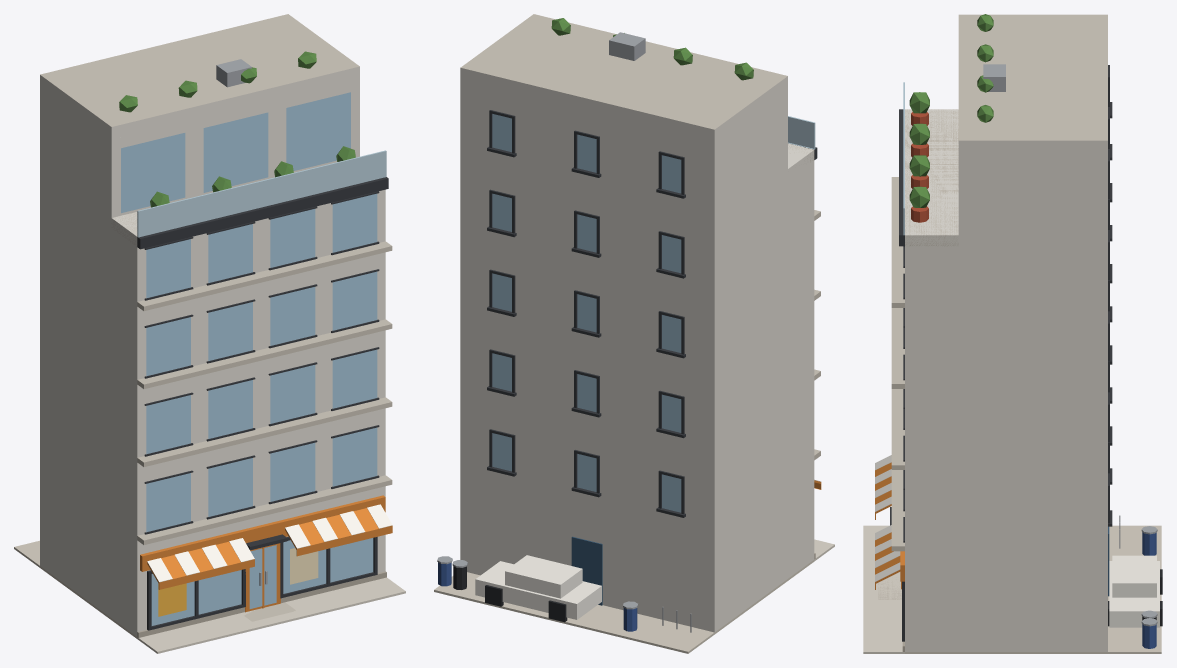
The model's file is Blok_duz_6k_7_Hafif.fbx.
The picture shows the model from 3 angles, left to right: view 1: azimuth 30°, elevation 25°; view 2: azimuth 150°, elevation 25°; view 3: azimuth 270°, elevation 25°; orthographic projection. The views are drawn at different scales.
Parts seen in each view (by area): view 1: Blok_duz_6k_7_Hafif; view 2: Blok_duz_6k_7_Hafif; view 3: Blok_duz_6k_7_Hafif.
Boxes of the visible parts, left/top/right/bottom form: Blok_duz_6k_7_Hafif: left=14, top=14, right=405, bottom=653; Blok_duz_6k_7_Hafif: left=434, top=14, right=834, bottom=653; Blok_duz_6k_7_Hafif: left=863, top=14, right=1162, bottom=653.
Bounding box in the file's own units: 10.07 × 19.57 × 10.04.
